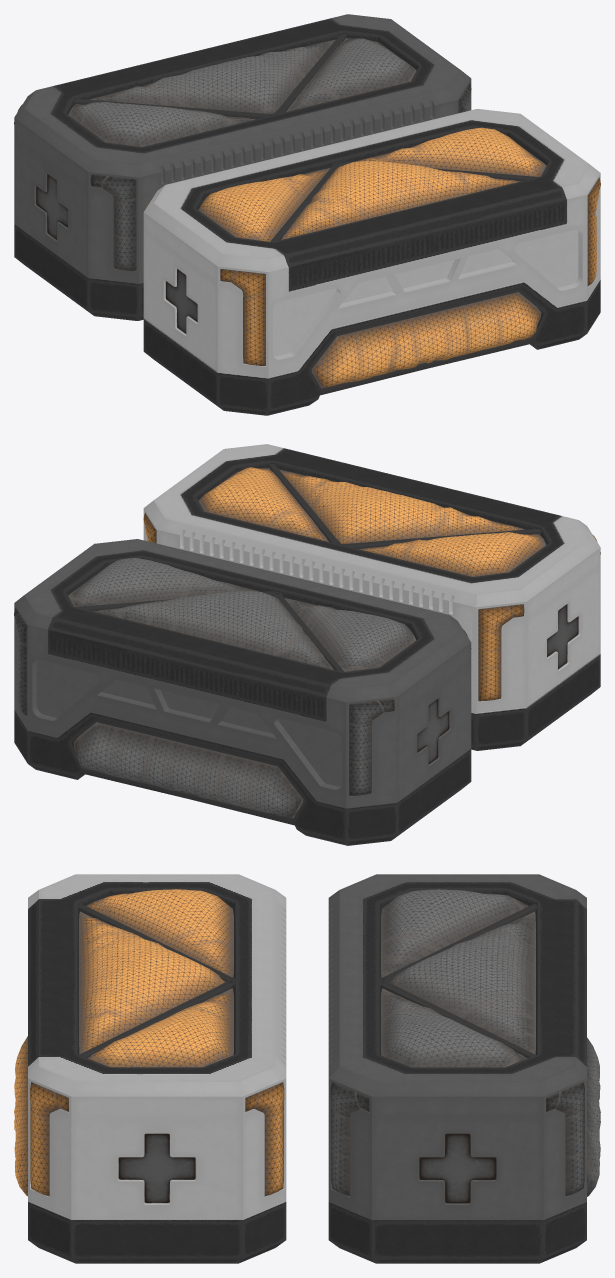
3 renders of one model, top to bottom at view 1: azimuth 30°, elevation 25°; view 2: azimuth 150°, elevation 25°; view 3: azimuth 270°, elevation 25°, orthographic. The views are drawn at different scales.
Visible parts, largest first — view 1: Box_low_0, Box_low.001_1; view 2: Box_low.001_1, Box_low_0; view 3: Box_low_0, Box_low.001_1.
Part boxes in pixels (x1,y1,x2,y2): Box_low_0: (143, 109, 600, 415); Box_low.001_1: (14, 14, 471, 320); Box_low.001_1: (14, 539, 471, 845); Box_low_0: (143, 444, 600, 750); Box_low_0: (14, 874, 286, 1263); Box_low.001_1: (328, 874, 600, 1263).
Size of the model in its own units: 3.98 by 1.73 by 4.54.
2 materials, 2 textured.
